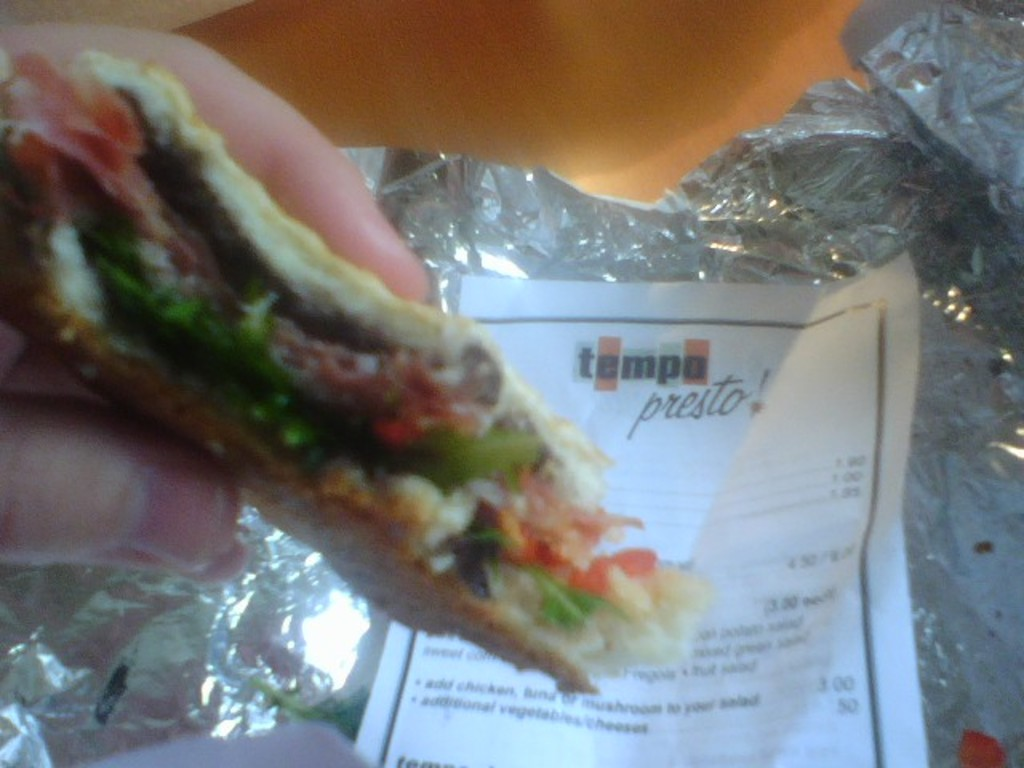sandwich: (0, 48, 709, 696)
